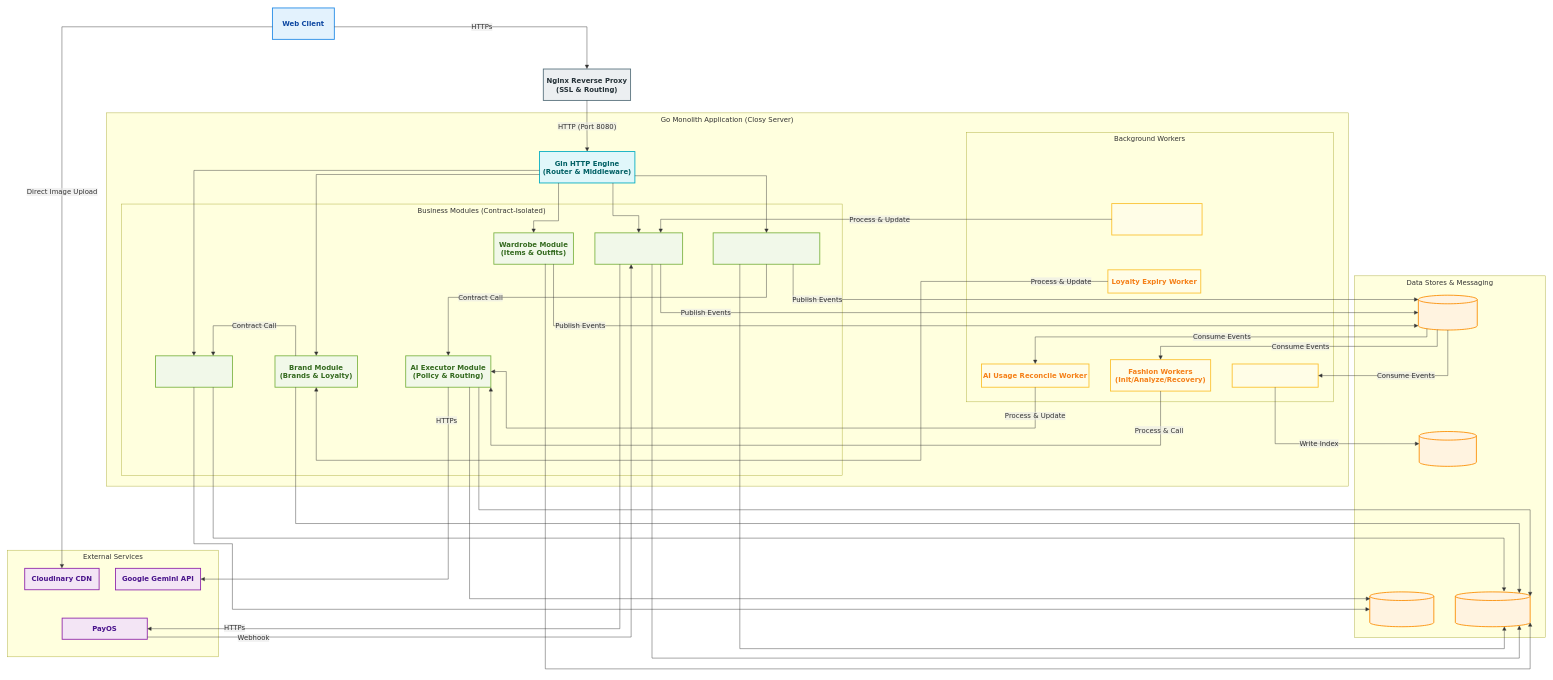
Some shapes in this 1553 by 680 pixel diagram are drawn without their labels. Here are the shapes that lost their labels. From the top down, the centre of each, then its label:
the point at 1156,219: Subscription Workers (Renewal/Payment)
the point at 638,248: Subscription Module (Plans & Billing)
the point at 766,248: Fashion Module (HSL & Recommendations)
the point at 1447,312: RabbitMQ (Message Broker)
the point at 194,371: Identity Module (Auth & Profiles)
the point at 1275,375: Search Sync Worker
the point at 1448,449: Elasticsearch (Search Indexes)
the point at 1401,609: Redis Cache (Sessions & Cache)
the point at 1492,609: PostgreSQL + pgvector (Source of Truth)
